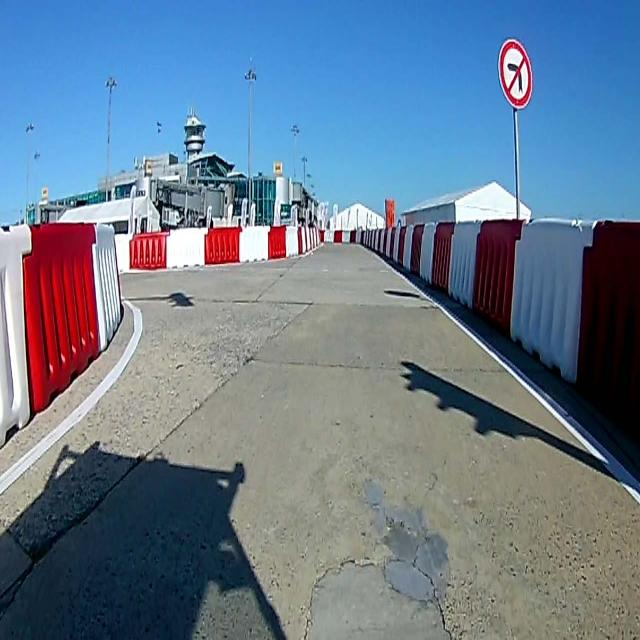soladonulmez: (498, 41, 532, 107)
